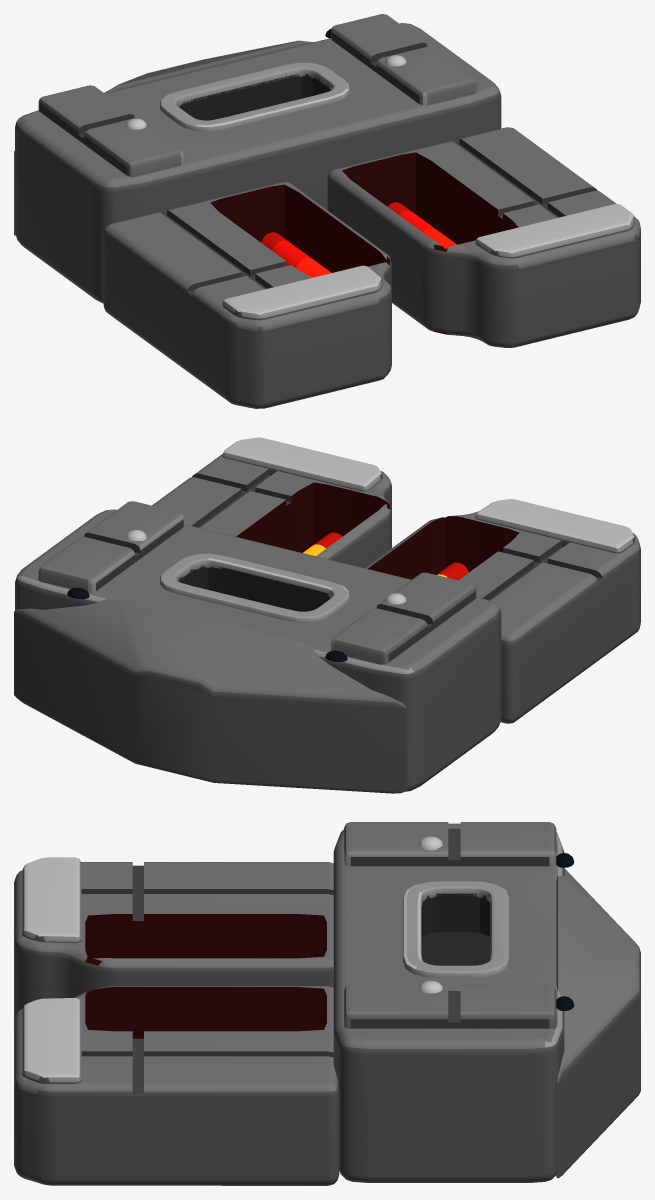
The model's file is k_clawblock.glb.
3 renders of one model, top to bottom at view 1: azimuth 30°, elevation 25°; view 2: azimuth 150°, elevation 25°; view 3: azimuth 270°, elevation 25°, orthographic. The views are drawn at different scales.
Visible parts, largest first — view 1: block, claw-1, claw1, flange-1, flange1, frame, foot-1, foot1, roof, tube-10, tube11; view 2: roof, block, claw-1, claw1, flange-1, flange1, frame, foot-1, foot1; view 3: claw1, block, claw-1, roof, flange1, flange-1, frame, foot1, foot-1.
Boxes of the visible parts, x1,y1,x2,y2 form: block: (15,23,501,303); claw-1: (103,182,391,408); claw1: (327,127,640,347); flange-1: (38,85,183,177); flange1: (331,14,476,105); frame: (159,62,349,131); foot-1: (222,265,382,320); foot1: (475,204,634,258); roof: (14,40,313,235); tube-10: (261,232,331,277); tube11: (387,202,456,248); roof: (14,597,407,793); block: (15,509,501,791); claw-1: (364,511,640,723); claw1: (152,454,391,567); flange-1: (331,572,476,664); flange1: (38,501,183,592); frame: (159,553,349,622); foot-1: (475,499,634,553); foot1: (222,437,382,491); claw1: (14,986,339,1185); block: (333,823,564,1182); claw-1: (14,862,333,1020); roof: (556,868,640,1178); flange1: (344,984,556,1028); flange-1: (344,822,556,866); frame: (402,881,509,977); foot1: (22,998,81,1083); foot-1: (22,857,81,942).
Bounding box in the file's own units: 24 × 8.05 × 27.75.
